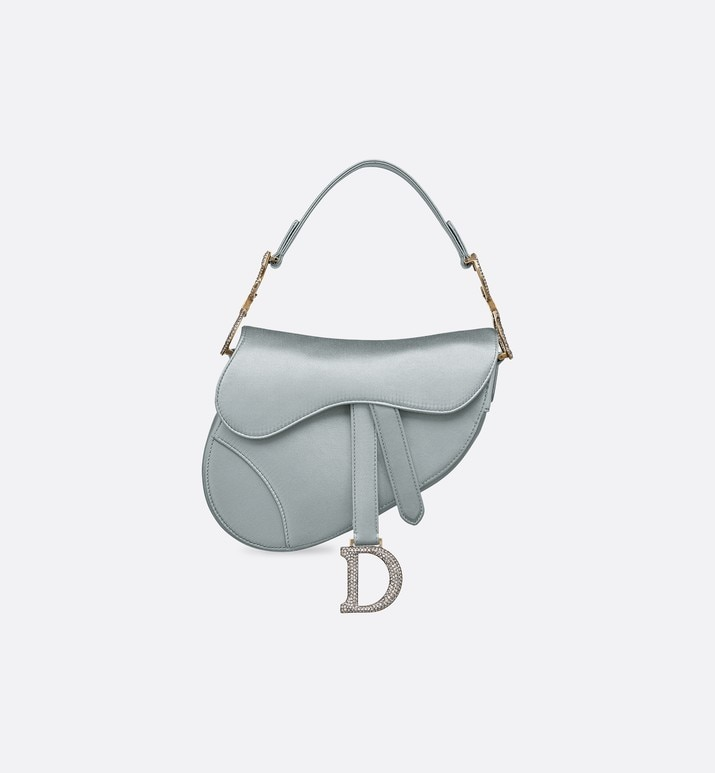bag: (173, 138, 580, 631)
